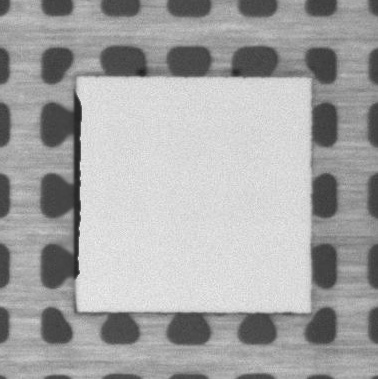DIE_BROKEN: (71, 93, 84, 285)
